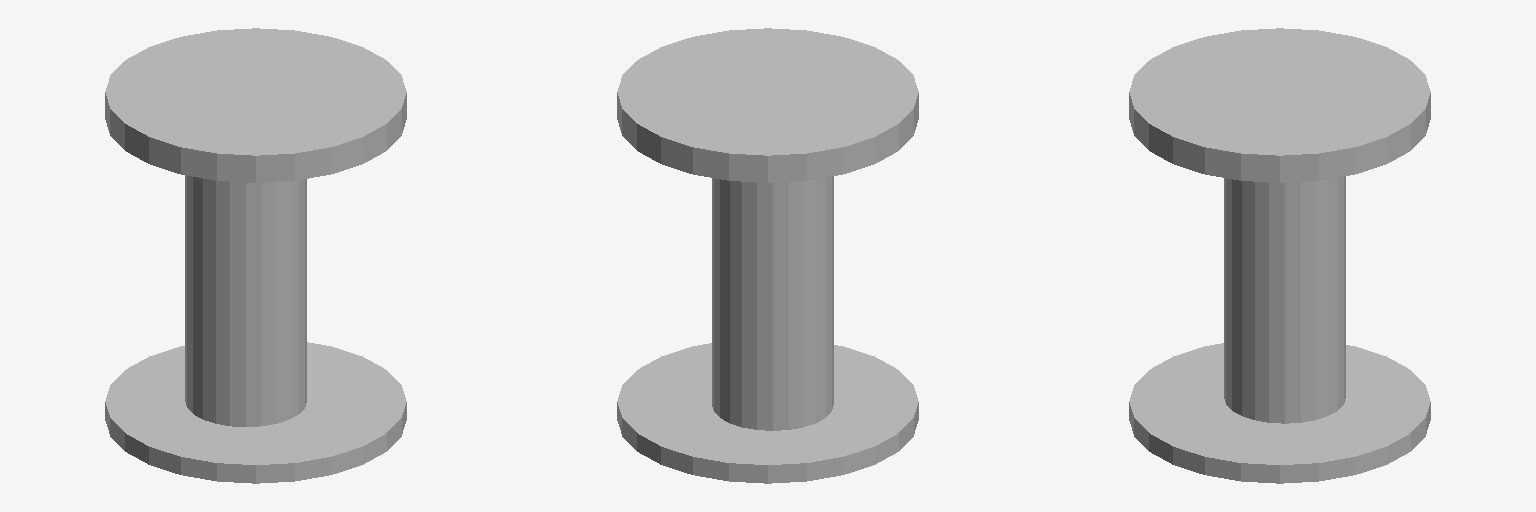
File: original-15.obj
3 views of the same model, side by side, from view 1: azimuth 30°, elevation 25°; view 2: azimuth 150°, elevation 25°; view 3: azimuth 270°, elevation 25° (orthographic).
Visible parts, largest first — view 1: Plinth_foot6/Plinth_foot/mesh19/mesh19-geometry#mesh19-geometry; view 2: Plinth_foot6/Plinth_foot/mesh19/mesh19-geometry#mesh19-geometry; view 3: Plinth_foot6/Plinth_foot/mesh19/mesh19-geometry#mesh19-geometry.
Part boxes in pixels (x1,y1,x2,y2): Plinth_foot6/Plinth_foot/mesh19/mesh19-geometry#mesh19-geometry: (105, 28, 406, 483); Plinth_foot6/Plinth_foot/mesh19/mesh19-geometry#mesh19-geometry: (617, 28, 918, 483); Plinth_foot6/Plinth_foot/mesh19/mesh19-geometry#mesh19-geometry: (1129, 28, 1430, 483).
Bounding box in the file's own units: 0.0762 × 0.0914 × 0.0762.